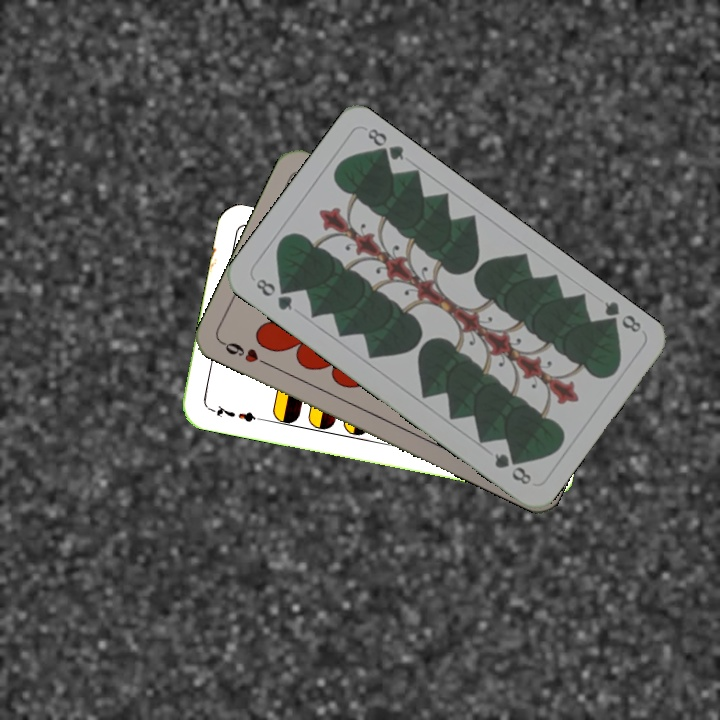E7: (205, 401, 264, 425)
G8: (598, 297, 644, 335), (251, 274, 295, 313)
H9: (218, 337, 273, 369)
